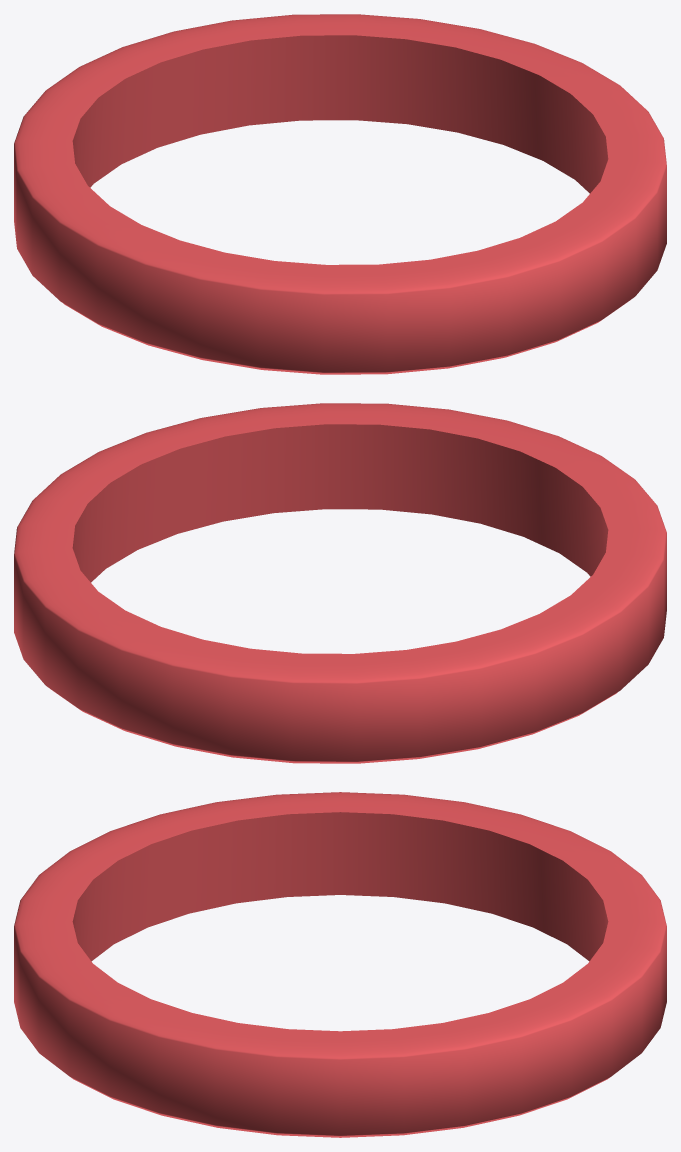
Rendered from Ring.fbx.
The picture shows the model from 3 angles, top to bottom: view 1: azimuth 30°, elevation 25°; view 2: azimuth 150°, elevation 25°; view 3: azimuth 270°, elevation 25°; orthographic projection. The views are drawn at different scales.
Visible parts, largest first — view 1: Cylinder; view 2: Cylinder; view 3: Cylinder.
Part boxes in pixels (x1,y1,x2,y2): Cylinder: (14,14,666,374); Cylinder: (14,403,666,763); Cylinder: (14,792,666,1137).
Bounding box in the file's own units: 105 × 15.49 × 108.
